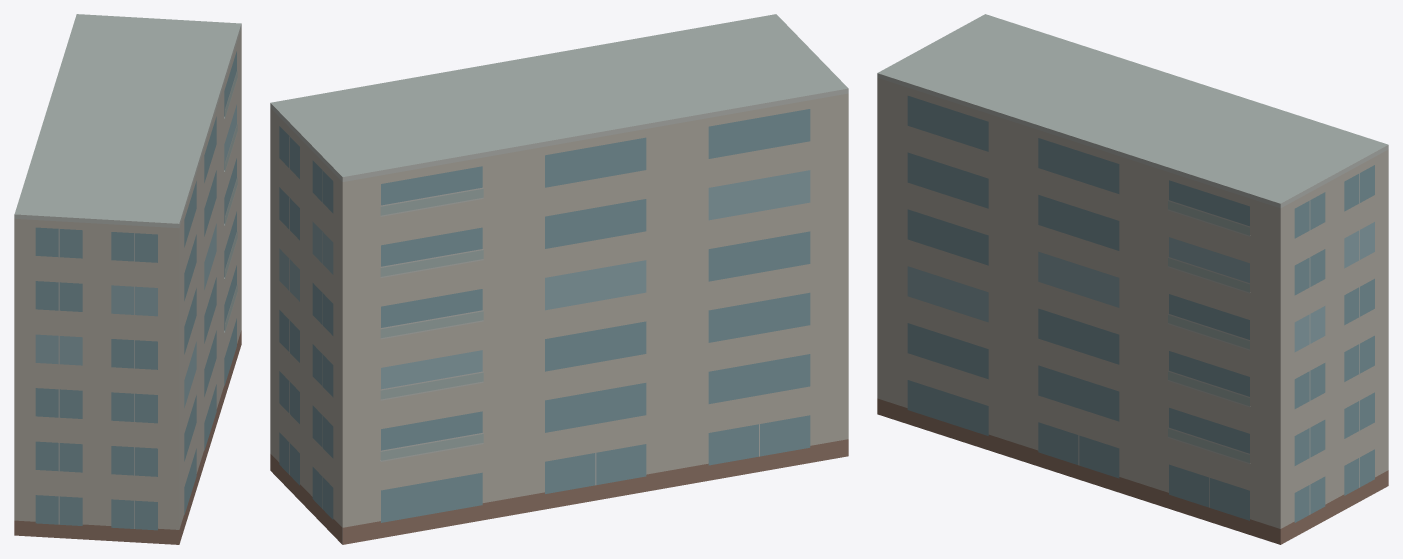
The model's file is survey-upis-32980940.glb.
3 renders of one model, left to right at view 1: azimuth 30°, elevation 25°; view 2: azimuth 150°, elevation 25°; view 3: azimuth 270°, elevation 25°, orthographic. The views are drawn at different scales.
Parts seen in each view (by area): view 1: survey-upis-32980940.tmp; view 2: survey-upis-32980940.tmp; view 3: survey-upis-32980940.tmp.
Part boxes in pixels (<box>): survey-upis-32980940.tmp: <box>14,14,241,544</box>; survey-upis-32980940.tmp: <box>270,14,848,544</box>; survey-upis-32980940.tmp: <box>877,14,1388,544</box>.
Size of the model in its own units: 21.54 by 18.05 by 24.53.
